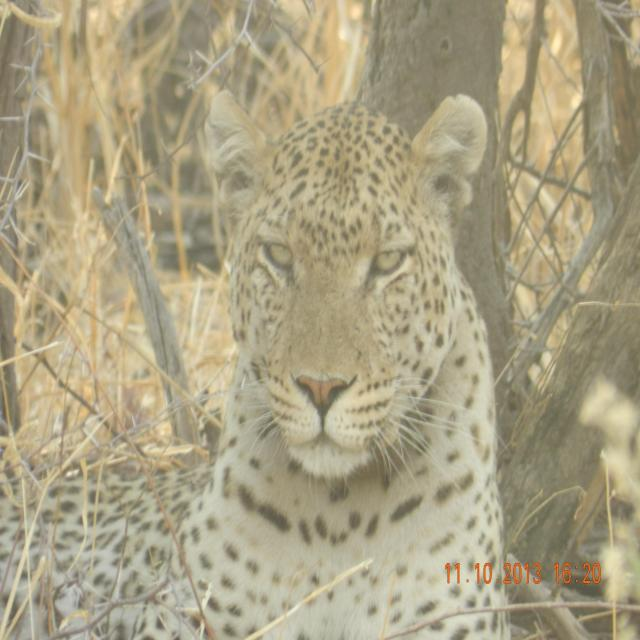Leopard: (0, 78, 516, 640)
